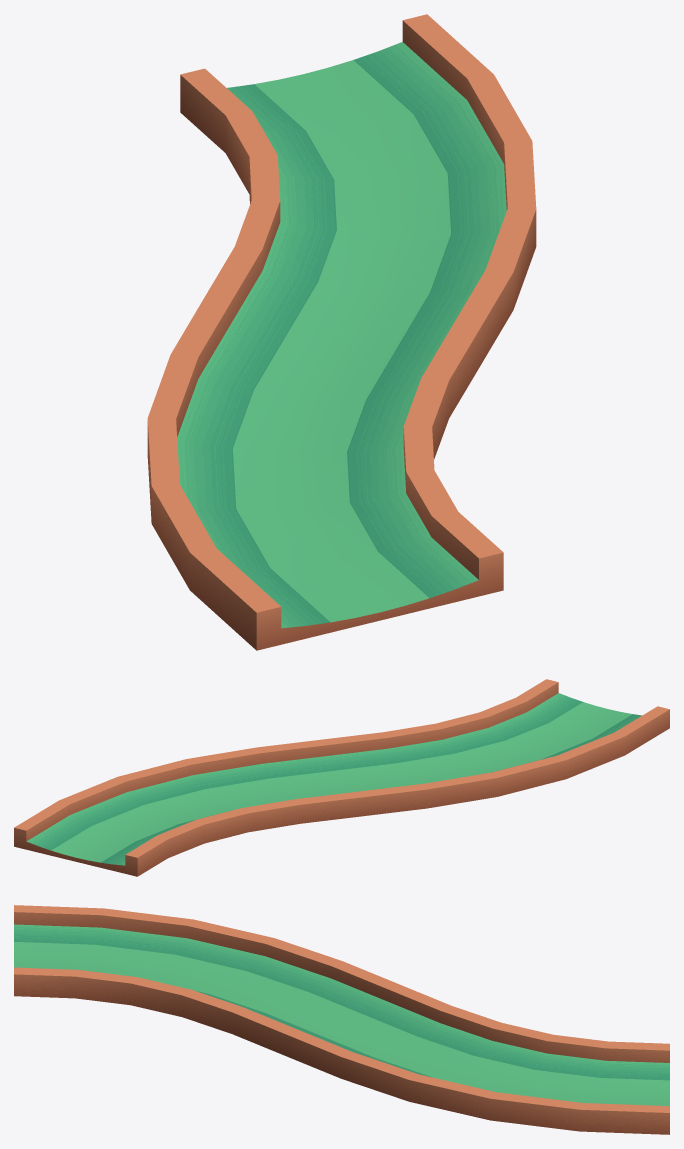
File: spline-concave-curve.glb
3 views of the same model, one above another, from view 1: azimuth 30°, elevation 25°; view 2: azimuth 150°, elevation 25°; view 3: azimuth 270°, elevation 25° (orthographic). The views are drawn at different scales.
Visible parts, largest first — view 1: spline-concave-curve; view 2: spline-concave-curve; view 3: spline-concave-curve.
Part boxes in pixels (x1,y1,x2,y2): spline-concave-curve: [147, 14, 536, 650]; spline-concave-curve: [14, 679, 669, 876]; spline-concave-curve: [14, 905, 669, 1134].
Bounding box in the file's own units: 3 × 0.1467 × 4.
1 material, 1 textured.
